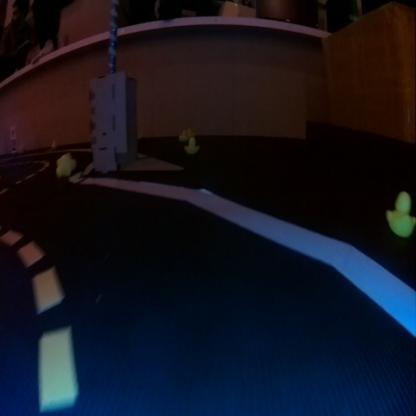Duckie: (386, 190, 410, 236), (183, 138, 201, 154), (56, 158, 69, 176), (179, 129, 187, 140)
QR code: (10, 139, 17, 151)
